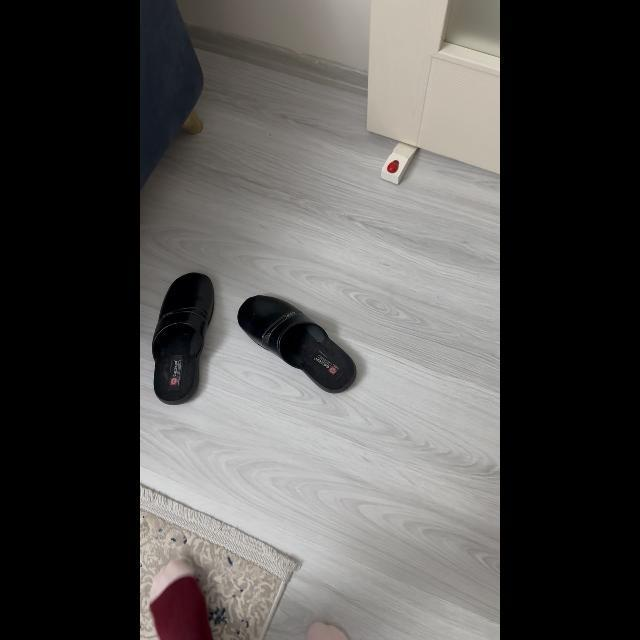slipper: (232, 288, 366, 398), (152, 267, 218, 407)
